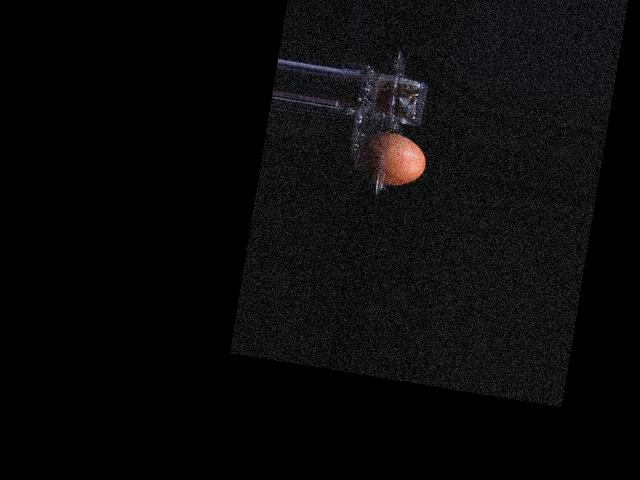egg: (352, 128, 429, 192)
